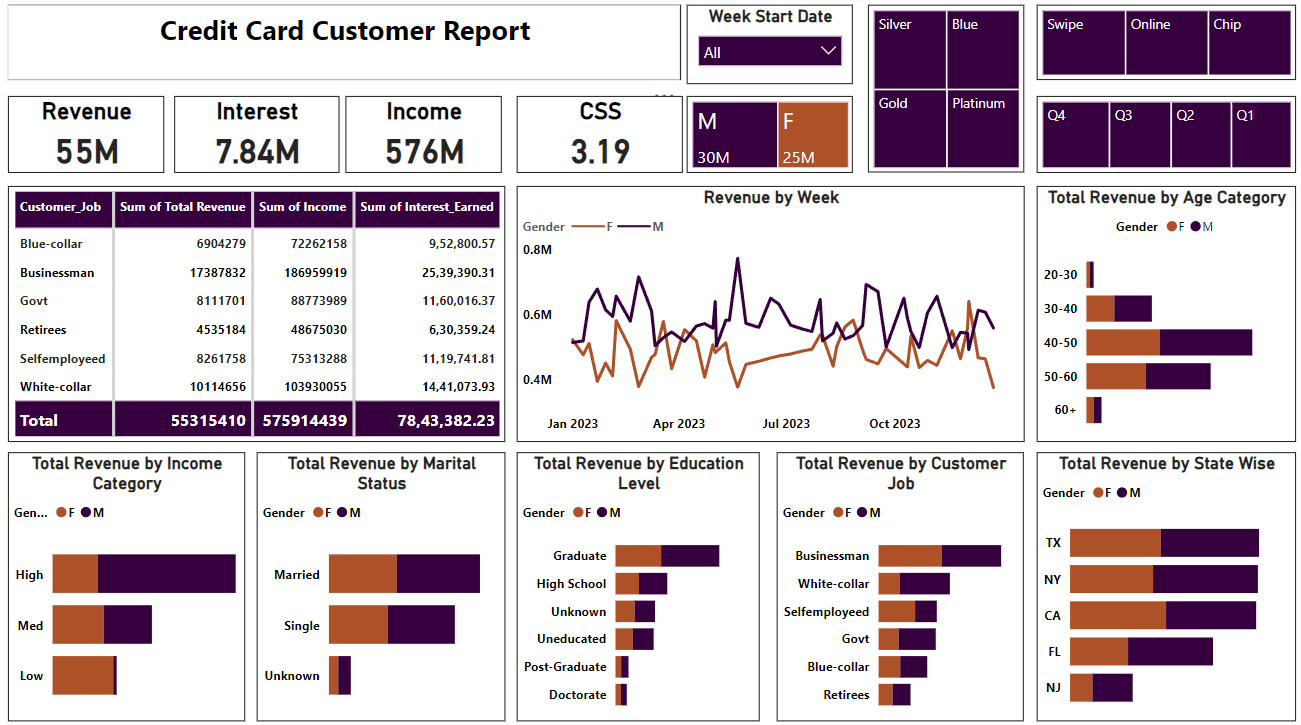

The dashboard page shown, as its layout file describes it:
{"tool":"powerbi","page":{"name":"CC Customer","canvas":[1280,720],"ordinal":1},"visuals":[{"type":"textbox","box":[10.1,8.6,658.1,73.4],"z":0},{"type":"barChart","title":"Total Revenue by Income Category","fields":{"Y":["Sum(credit_card.Total Revenue)"],"Category":["customer.Income Category"],"Series":["customer.Gender"]},"box":[10.1,446.4,231.8,263.5],"z":1000},{"type":"tableEx","fields":{"Values":["customer.Customer_Job","Sum(credit_card.Total Revenue)","Sum(customer.Income)","Sum(credit_card.Interest_Earned)"]},"box":[10.1,185.8,486.7,250.6],"z":2000},{"type":"card","title":"Revenue","fields":{"Values":["Sum(credit_card.Total Revenue)"]},"box":[10.1,97.9,152.6,74.9],"z":3000},{"type":"card","title":"Interest","fields":{"Values":["Sum(credit_card.Interest_Earned)"]},"box":[172.8,97.9,161.3,74.9],"z":4000},{"type":"card","title":"Income","fields":{"Values":["Sum(customer.Income)"]},"box":[339.8,97.9,152.6,74.9],"z":5000},{"type":"card","title":"CSS","fields":{"Values":["Avg(customer.Cust_Satisfaction_Score)"]},"box":[506.9,97.9,162.7,74.9],"z":6000},{"type":"slicer","title":"Week Start Date","fields":{"Values":["credit_card.Week_Start_Date"]},"box":[673.9,8.6,162.7,77.8],"z":7000},{"type":"treemap","fields":{"Group":["credit_card.Qtr"],"Values":["Avg(credit_card.Client_Num)"]},"box":[1016.6,97.9,253.4,74.9],"z":8000},{"type":"treemap","fields":{"Values":["Avg(credit_card.Client_Num)"],"Group":["credit_card.Card_Category"]},"box":[851,8.6,152.6,164.2],"z":9000},{"type":"lineChart","title":"Revenue by Week","fields":{"Y":["Sum(credit_card.Total Revenue)"],"Series":["customer.Gender"],"Category":["credit_card.Week_Start_Date.Variation.Date Hierarchy.Year","credit_card.Week_Start_Date.Variation.Date Hierarchy.Month","credit_card.Week_Start_Date.Variation.Date Hierarchy.Day"]},"box":[506.9,185.8,496.8,250.6],"z":10000},{"type":"treemap","fields":{"Group":["customer.Gender"],"Values":["Sum(credit_card.Total Revenue)"]},"box":[673.9,97.9,162.7,74.9],"z":11000},{"type":"barChart","title":"Total Revenue by Age Category","fields":{"Y":["Sum(credit_card.Total Revenue)"],"Category":["customer.Age Category"],"Series":["customer.Gender"]},"box":[1016.6,185.8,253.4,250.6],"z":12000},{"type":"barChart","title":"Total Revenue by Education Level","fields":{"Y":["Sum(credit_card.Total Revenue)"],"Category":["customer.Education_Level"],"Series":["customer.Gender"]},"box":[506.9,446.4,237.6,263.5],"z":13000},{"type":"barChart","title":"Total Revenue by Customer Job","fields":{"Y":["Sum(credit_card.Total Revenue)"],"Category":["customer.Customer_Job"],"Series":["customer.Gender"]},"box":[761.8,446.4,241.9,263.5],"z":14000},{"type":"barChart","title":"Total Revenue by State Wise","fields":{"Y":["Sum(credit_card.Total Revenue)"],"Category":["customer.state_cd"],"Series":["customer.Gender"]},"box":[1016.6,446.4,253.4,263.5],"z":15000},{"type":"barChart","title":"Total Revenue by Marital Status","fields":{"Y":["Sum(credit_card.Total Revenue)"],"Category":["customer.Marital_Status"],"Series":["customer.Gender"]},"box":[253.4,446.4,243.4,263.5],"z":16000},{"type":"treemap","fields":{"Values":["Avg(credit_card.Client_Num)"],"Group":["credit_card.Use Chip"]},"box":[1016.6,8.6,253.4,73.4],"z":17000}]}

Visuals, with their boxes in screenshot pixels (x1, y1, x2, y2), scaled from the page's 1280x720 canvas onto the 1301x725 screenshot:
textbox: 10,9,679,83
"Total Revenue by Income Category" barChart: 10,449,246,715
tableEx - customer.Customer_Job x Sum(credit_card.Total Revenue): 10,187,505,439
"Revenue" card: 10,99,165,174
"Interest" card: 176,99,340,174
"Income" card: 345,99,500,174
"CSS" card: 515,99,681,174
"Week Start Date" slicer: 685,9,850,87
treemap - credit_card.Qtr x Avg(credit_card.Client_Num): 1033,99,1291,174
treemap - Avg(credit_card.Client_Num) x credit_card.Card_Category: 865,9,1020,174
"Revenue by Week" lineChart: 515,187,1020,439
treemap - customer.Gender x Sum(credit_card.Total Revenue): 685,99,850,174
"Total Revenue by Age Category" barChart: 1033,187,1291,439
"Total Revenue by Education Level" barChart: 515,449,757,715
"Total Revenue by Customer Job" barChart: 774,449,1020,715
"Total Revenue by State Wise" barChart: 1033,449,1291,715
"Total Revenue by Marital Status" barChart: 258,449,505,715
treemap - Avg(credit_card.Client_Num) x credit_card.Use Chip: 1033,9,1291,83
